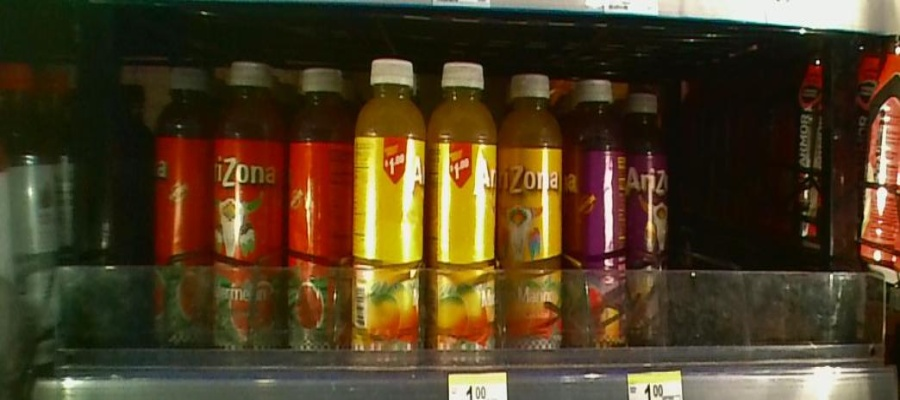bottle: (353, 55, 427, 377), (212, 45, 284, 362), (428, 56, 500, 369), (286, 49, 349, 366), (502, 64, 566, 374), (148, 55, 212, 357), (568, 63, 628, 382), (629, 83, 672, 372)
